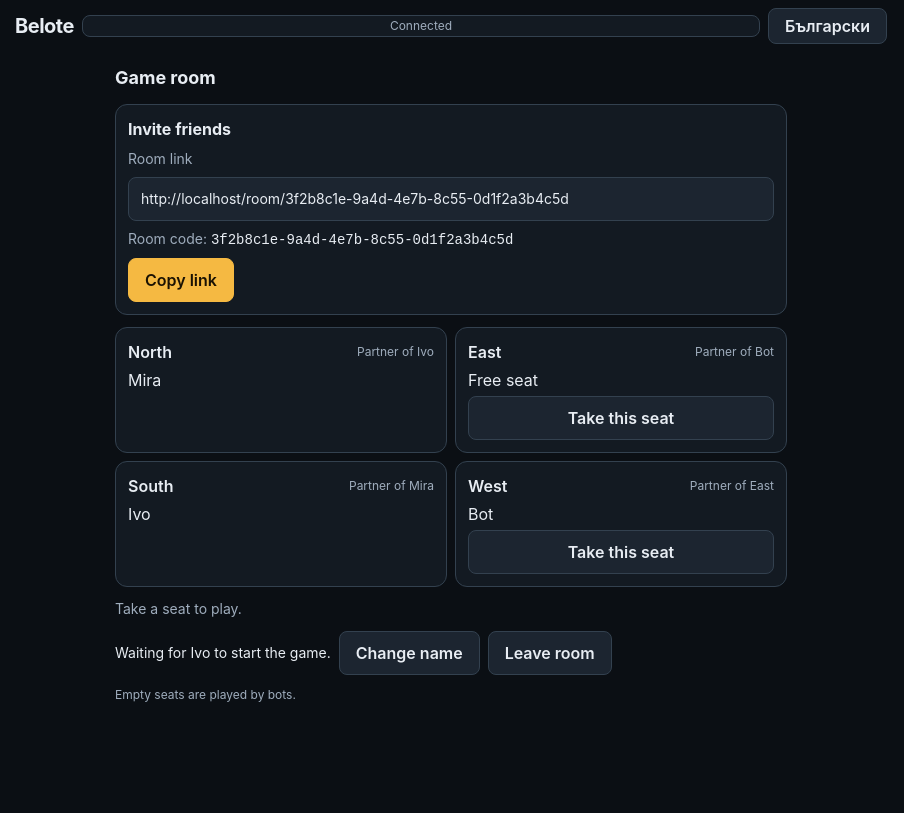
it: opening a room link (US2) › lets a person pick a free seat and reports a lost race inline
Click the button with test id "take-east" at (621, 418), box [468,396,774,440]
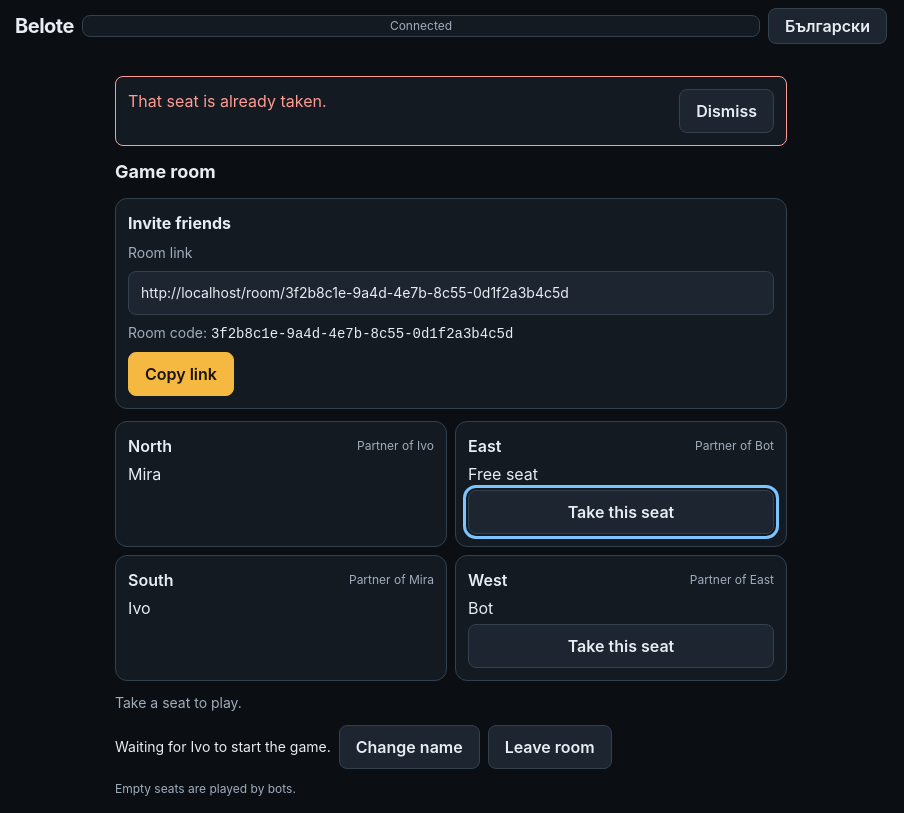
Result: the message with test id "notice" shows "That seat is already taken" at [128,91,326,111]
